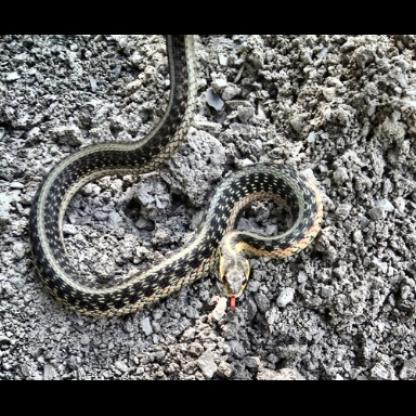Snake: (22, 29, 335, 322)
